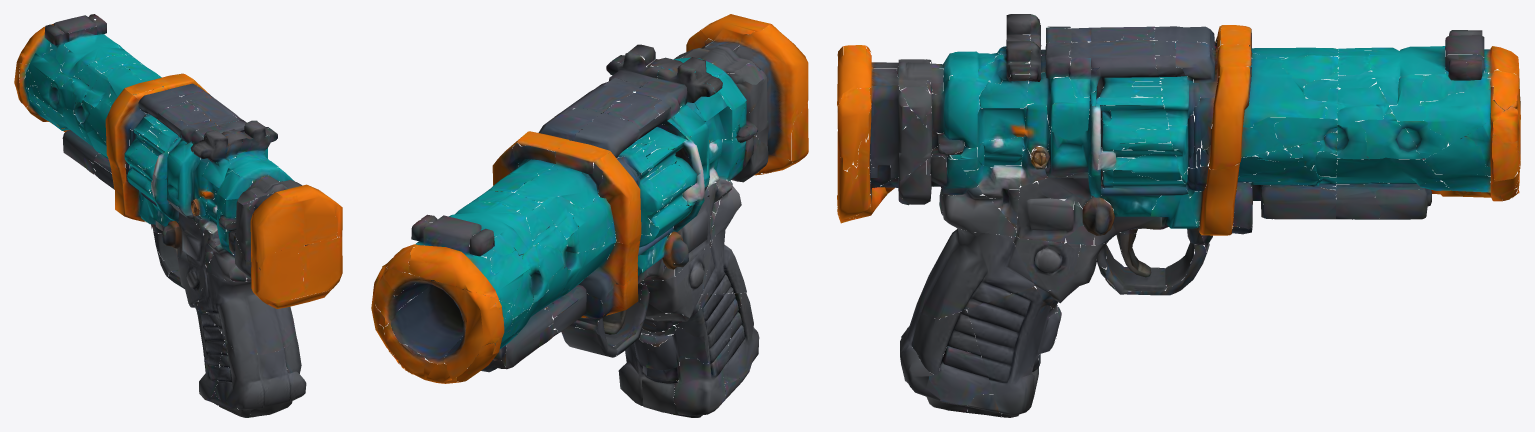
File: launcher.glb
3 renders of one model, left to right at view 1: azimuth 30°, elevation 25°; view 2: azimuth 150°, elevation 25°; view 3: azimuth 270°, elevation 25°, orthographic. The views are drawn at different scales.
Visible parts, largest first — view 1: gun; view 2: gun; view 3: gun.
Part boxes in pixels (left/top/right/bottom): gun: left=14, top=14, right=342, bottom=417; gun: left=371, top=14, right=808, bottom=417; gun: left=837, top=14, right=1520, bottom=417.
Bounding box in the file's own units: 0.2094 × 0.4833 × 0.8008.
Materials: 1 (1 with a texture image).
